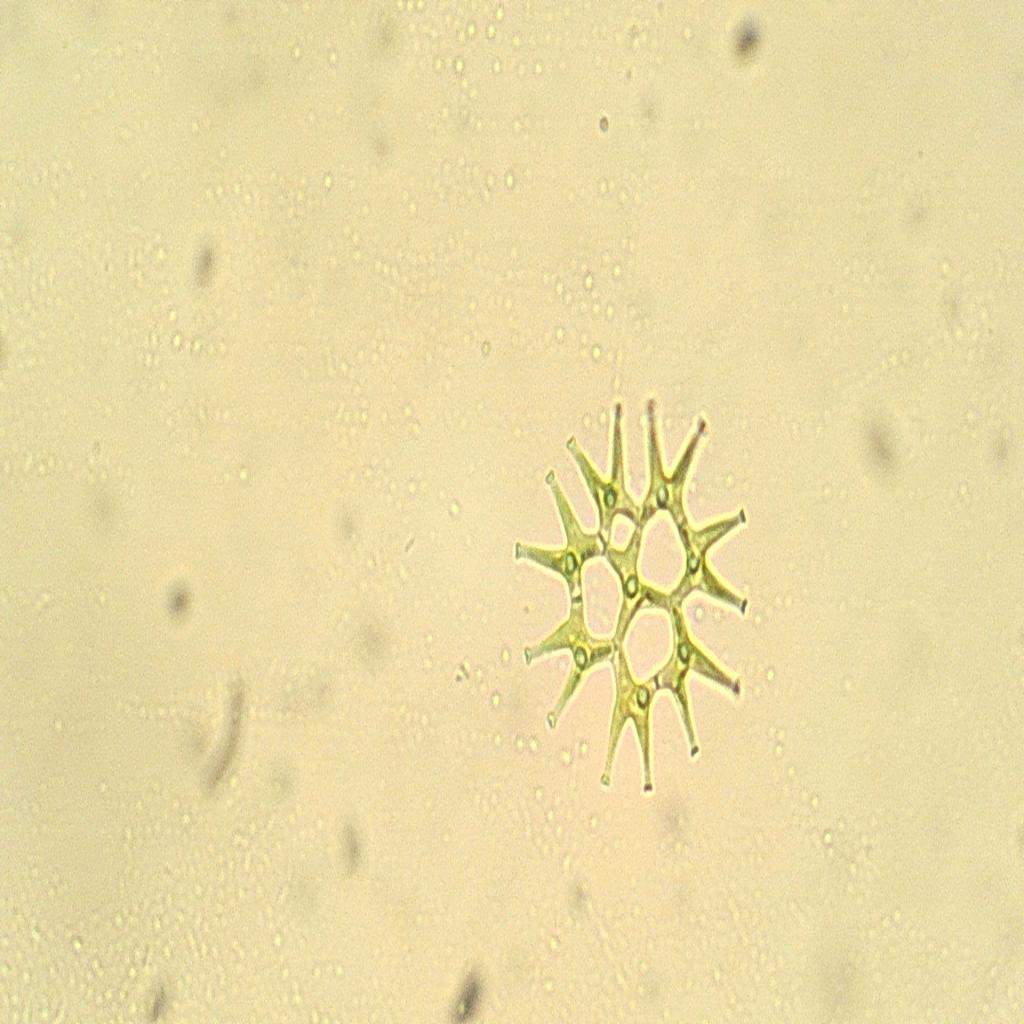Pediastrum_75T: (500, 377, 783, 822)
